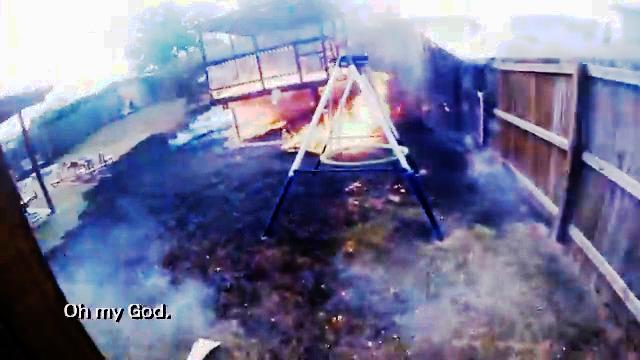fire: (333, 70, 389, 144), (205, 57, 274, 92), (235, 92, 270, 139)
smoke: (440, 9, 506, 57)
